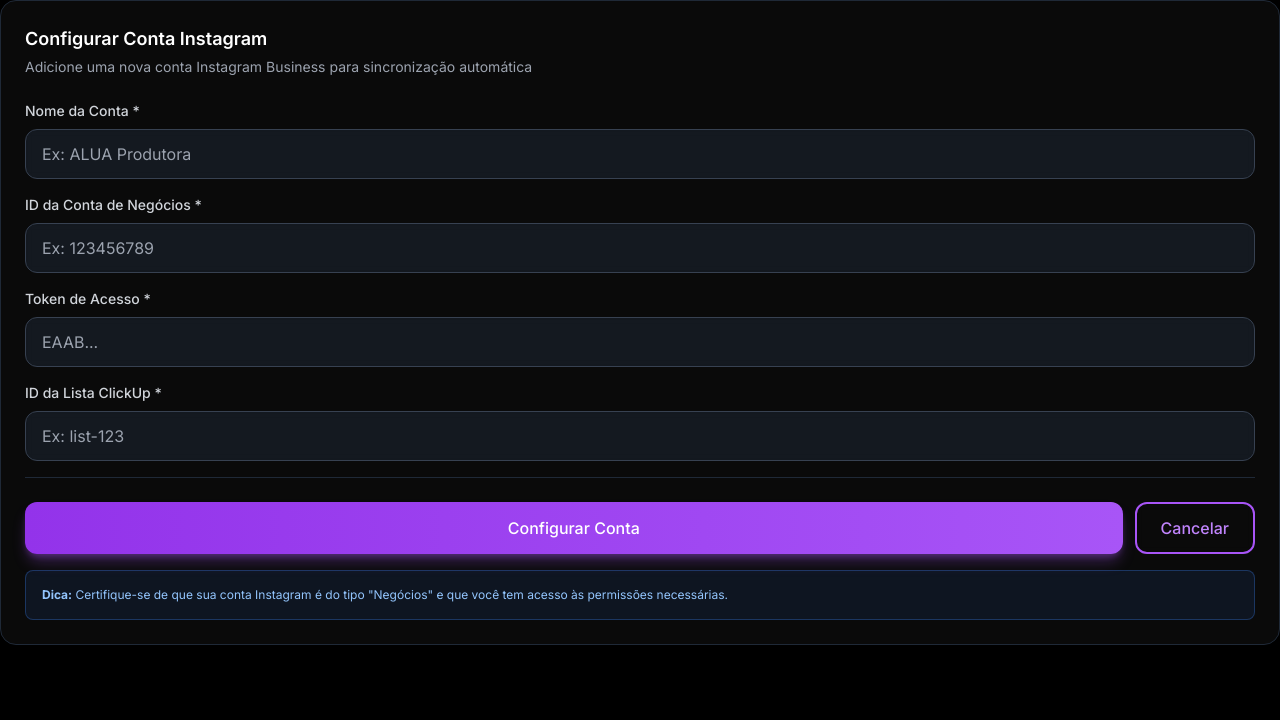
it: InstagramAccountForm › Validation › should show error when accountName is empty
This screenshot has width=1280, height=720.
Click the button "Configurar Conta": (574, 528) [25,502,1123,554]
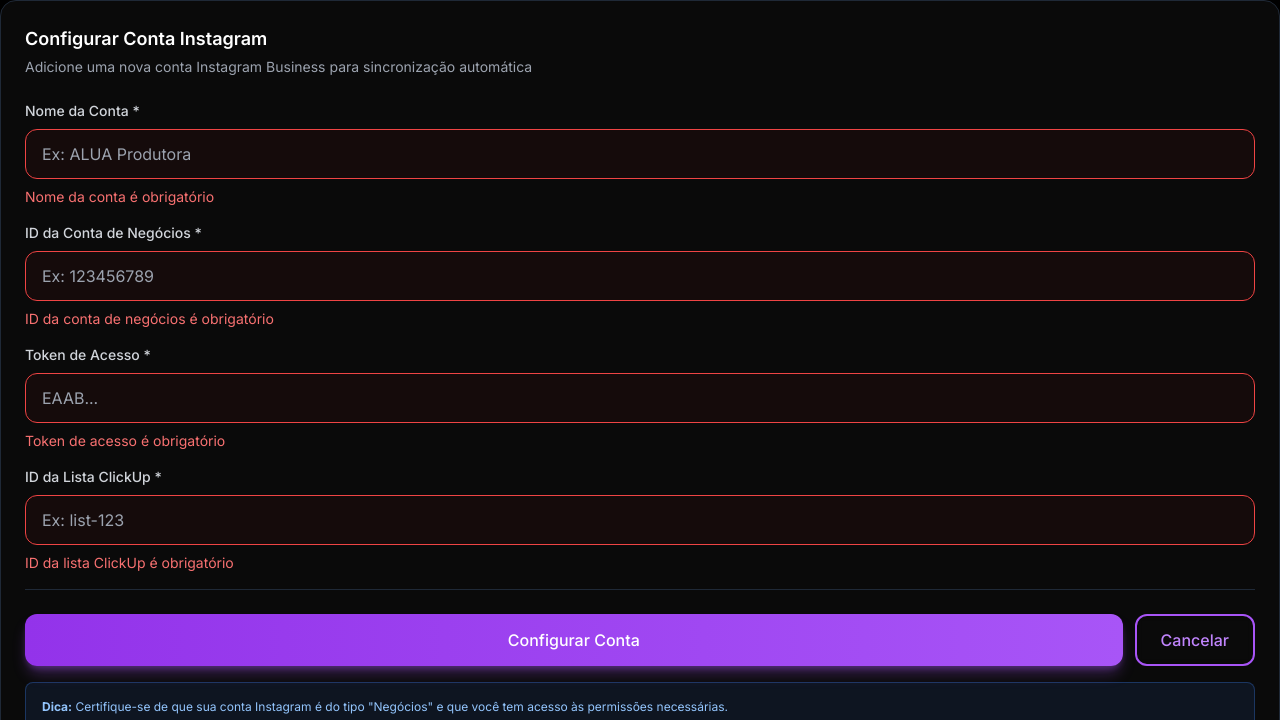
Result: the text "Nome da conta é obrigatório" is shown at [25,188,214,205]
